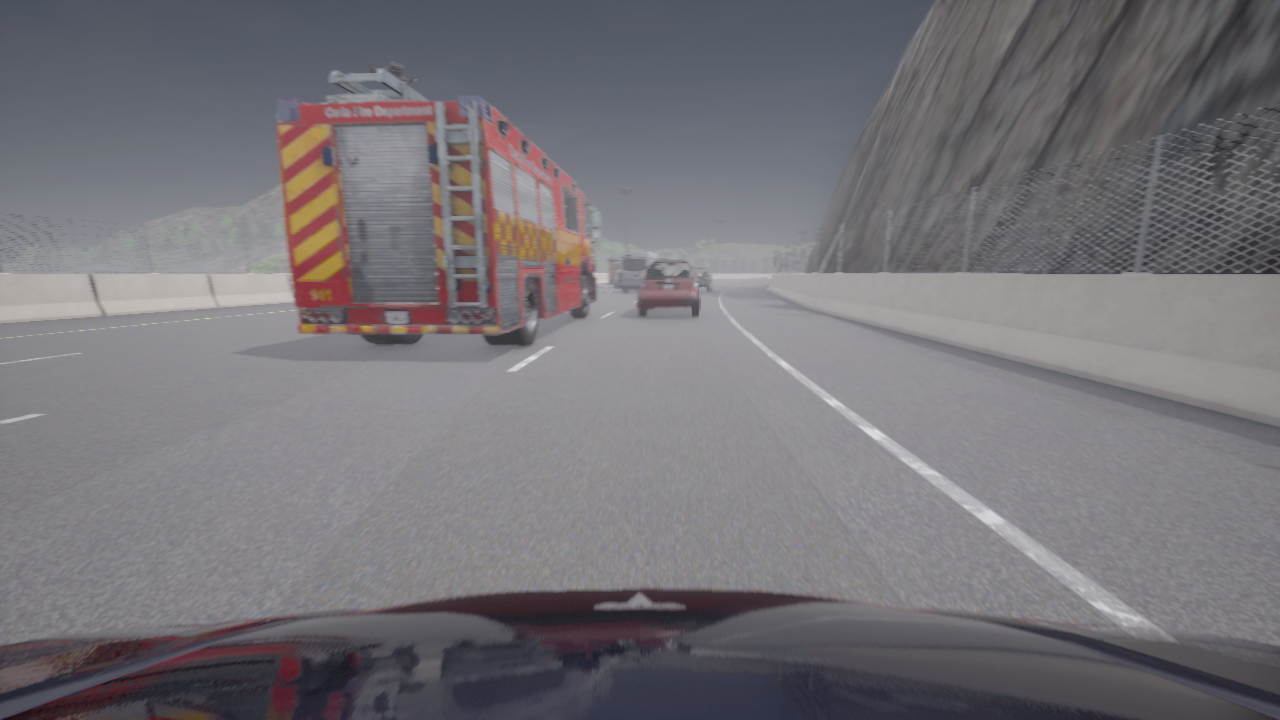cyclist: (0, 588, 1279, 719), (277, 69, 601, 346), (638, 259, 701, 317), (619, 251, 658, 292), (692, 267, 713, 291), (608, 258, 620, 287)
